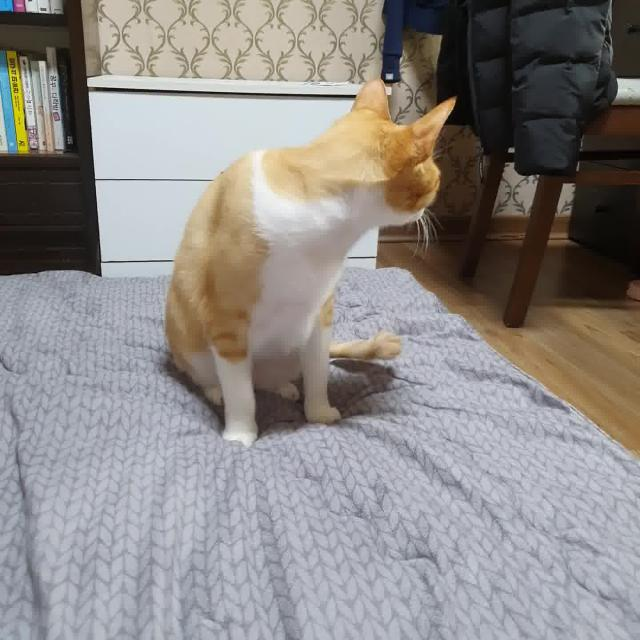cat: (164, 70, 462, 452)
